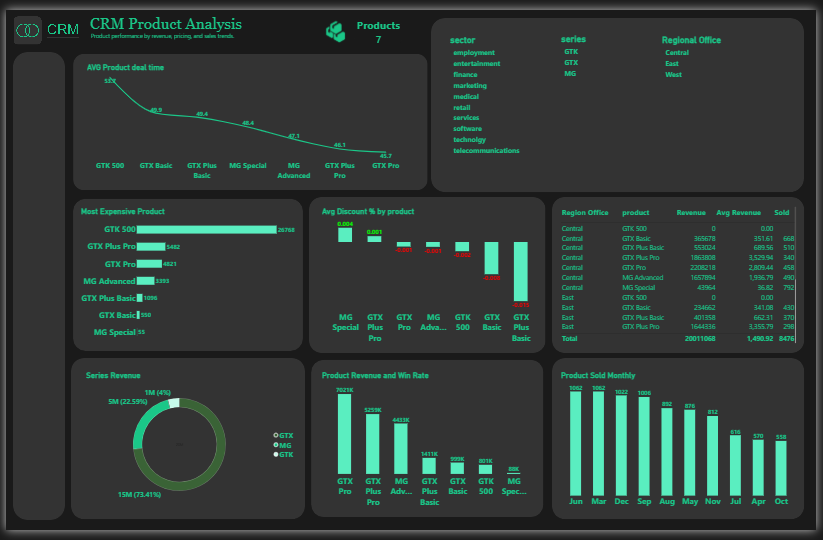

Layout of this report page (visuals, bound fields, positions):
{"tool":"powerbi","page":{"name":"CRM Product Analysis","canvas":[6225,4000],"ordinal":2},"visuals":[{"type":"shape","box":[50,320,400,3600],"z":0},{"type":"textbox","box":[645,35,1715,280],"z":1000},{"type":"shape","box":[500,2680,1800,1240],"z":2000},{"type":"shape","box":[2330,1440,1820,1200],"z":3000},{"type":"image","box":[45,0,555,315],"z":4000},{"type":"shape","box":[500,1440,1800,1200],"z":5000},{"type":"shape","box":[2330,2680,1820,1240],"z":6000},{"type":"shape","box":[4200,2680,1940,1240],"z":7000},{"type":"shape","box":[500,320,2760,1080],"z":8000},{"type":"cardVisual","fields":{"Data":["crmsalesopportunities crmeqsales_pipeline.Total Products"]},"box":[2680,65,375,215],"z":9000},{"type":"actionButton","box":[2395,40,285,215],"z":10000},{"type":"shape","box":[4200,1440,1940,1200],"z":11000},{"type":"shape","box":[3270,60,2870,1340],"z":12000},{"type":"clusteredBarChart","title":"Most Expensive Product","fields":{"Category":["crmsalesopportunities crmeqproduct.product"],"Y":["Sum(crmsalesopportunities crmeqproduct.sales_price)"]},"box":[560,1500,1675,1080],"z":13000},{"type":"lineChart","title":"AVG Product deal time","fields":{"Category":["crmsalesopportunities crmeqproduct.product"],"Y":["crmsalesopportunities crmeqaccount.Account Avg Deal Duration"]},"box":[610,390,2500,930],"z":14000},{"type":"columnChart","title":"Product Revenue and Win Rate","fields":{"Category":["crmsalesopportunities crmeqproduct.product"],"Y":["crmsalesopportunities crmeqsales_pipeline.Total Revenue"]},"box":[2415,2760,1650,1080],"z":15000},{"type":"donutChart","title":"Series Revenue","fields":{"Category":["crmsalesopportunities crmeqproduct.series"],"Y":["crmsalesopportunities crmeqsales_pipeline.Total Revenue"]},"box":[600,2760,1635,1080],"z":16000},{"type":"columnChart","title":"Product Sold Monthly","fields":{"Category":["crmsalesopportunities crmeqsales_pipeline.close_month"],"Y":["crmsalesopportunities crmeqsales_pipeline.Total Sold"]},"box":[4250,2760,1840,1080],"z":17000},{"type":"columnChart","fields":{"Category":["crmsalesopportunities crmeqproduct.product"],"Y":["crmsalesopportunities crmeqproduct.Avg Discount %"]},"box":[2415,1500,1710,1080],"z":18000},{"type":"tableEx","fields":{"Values":["crmsalesopportunities cremqsales_team.regional_office","crmsalesopportunities crmeqproduct.product","crmsalesopportunities crmeqsales_pipeline.Total Revenue","crmsalesopportunities crmeqsales_pipeline.Avg Revenue","crmsalesopportunities crmeqsales_pipeline.Total Sold"]},"box":[4250,1500,1840,1080],"z":18001},{"type":"listSlicer","fields":{"Values":["crmsalesopportunities crmeqaccount.sector"]},"box":[3400,180,800,1140],"z":18002},{"type":"listSlicer","fields":{"Values":["crmsalesopportunities crmeqproduct.series"]},"box":[4250,170,660,410],"z":18003},{"type":"listSlicer","fields":{"Values":["crmsalesopportunities cremqsales_team.regional_office"]},"box":[5030,180,740,1000],"z":18004}]}

Visuals, with their boxes in screenshot pixels (x1, y1, x2, y2), scaled from the page's 6225x4000 canvas onto the 823x540 screenshot:
shape: 7 43 59 529
textbox: 85 5 312 43
shape: 66 362 304 529
shape: 308 194 549 356
image: 6 0 79 43
shape: 66 194 304 356
shape: 308 362 549 529
shape: 555 362 812 529
shape: 66 43 431 189
cardVisual - crmsalesopportunities crmeqsales_pipeline.Total Products: 354 9 404 38
actionButton: 317 5 354 34
shape: 555 194 812 356
shape: 432 8 812 189
"Most Expensive Product" clusteredBarChart: 74 202 295 348
"AVG Product deal time" lineChart: 81 53 411 178
"Product Revenue and Win Rate" columnChart: 319 373 537 518
"Series Revenue" donutChart: 79 373 295 518
"Product Sold Monthly" columnChart: 562 373 805 518
columnChart - crmsalesopportunities crmeqproduct.product x crmsalesopportunities crmeqproduct.Avg Discount %: 319 202 545 348
tableEx - crmsalesopportunities cremqsales_team.regional_office x crmsalesopportunities crmeqproduct.product: 562 202 805 348
listSlicer - crmsalesopportunities crmeqaccount.sector: 450 24 555 178
listSlicer - crmsalesopportunities crmeqproduct.series: 562 23 649 78
listSlicer - crmsalesopportunities cremqsales_team.regional_office: 665 24 763 159
